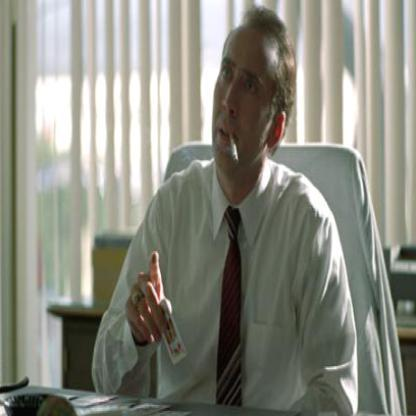cigarette: (228, 132, 238, 164)
person: (102, 9, 354, 415)
